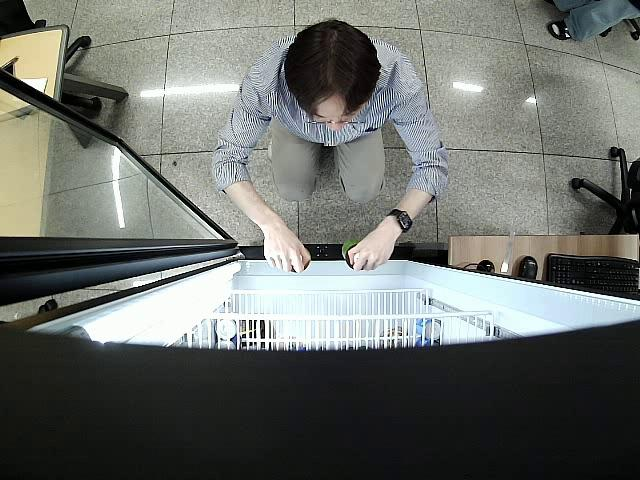00_hand: (263, 228, 312, 273), (348, 236, 396, 272)
19_17cha: (341, 239, 364, 270)
